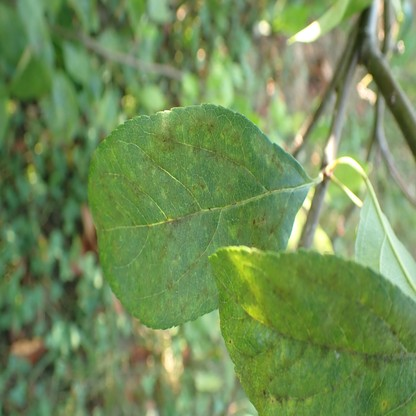scab: (89, 115, 288, 315), (219, 253, 415, 416)
